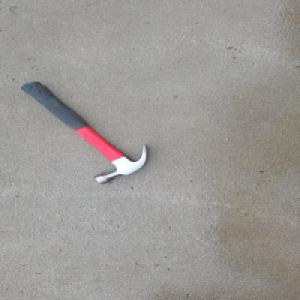Hammer: (20, 81, 151, 185)
